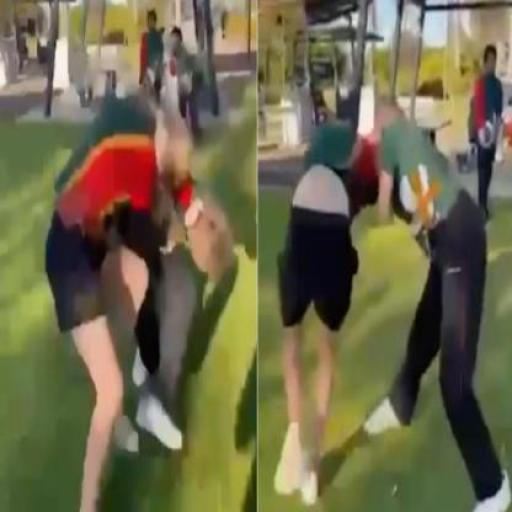Fighting: (274, 79, 507, 512), (16, 76, 243, 512)
